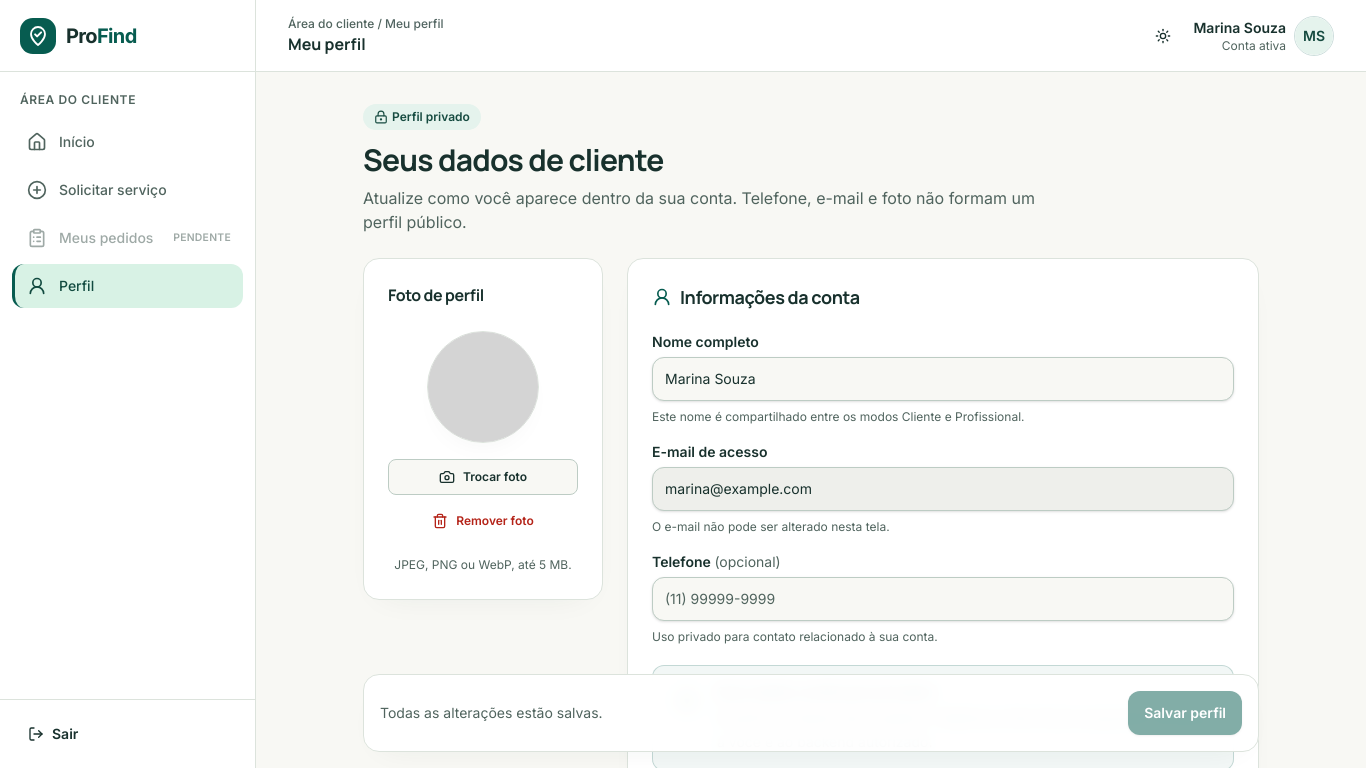
Test: ClientProfilePage › preserva a foto remota quando salvar sua remocao falha
Step 1. Click the button "Remover foto" → point(483, 521), box [388,503,578,539]
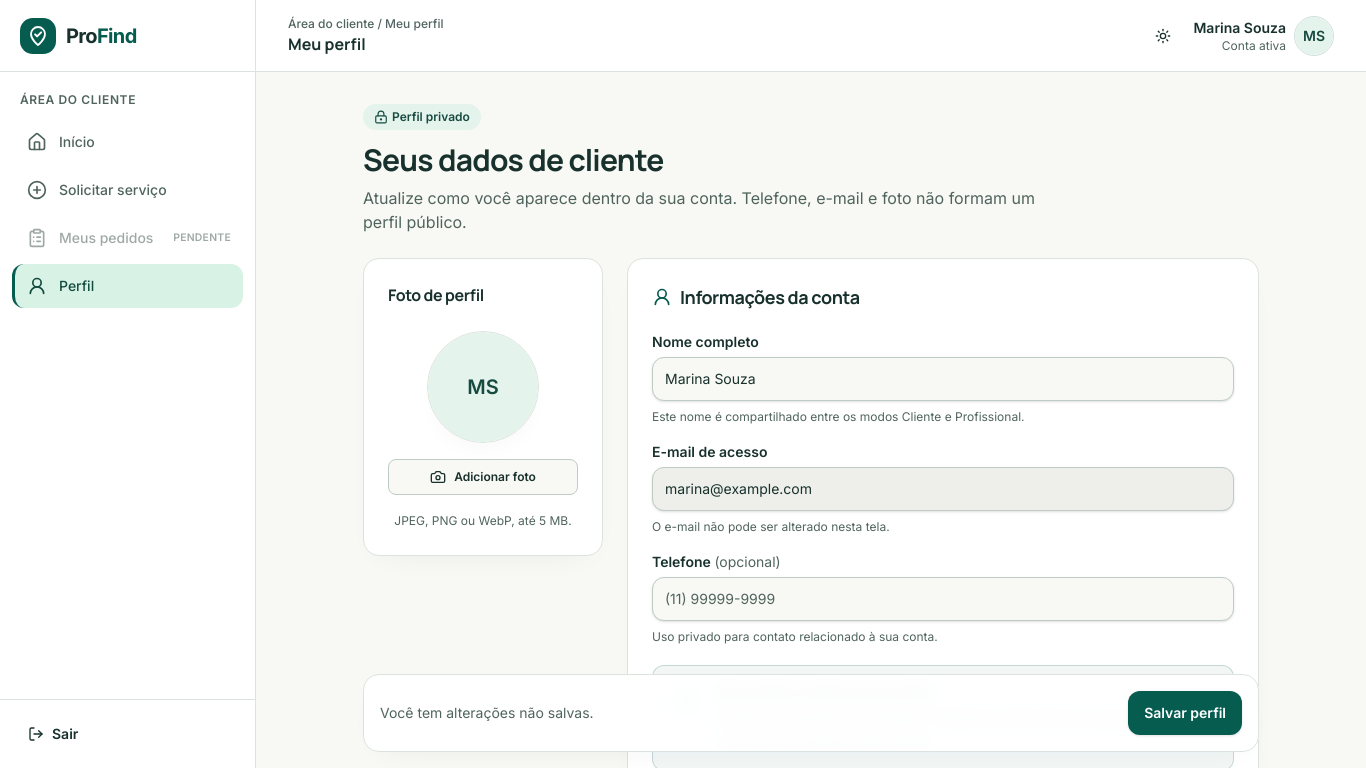
Step 2. Click the button "Salvar perfil" → point(1185, 713), box [1128,691,1242,735]
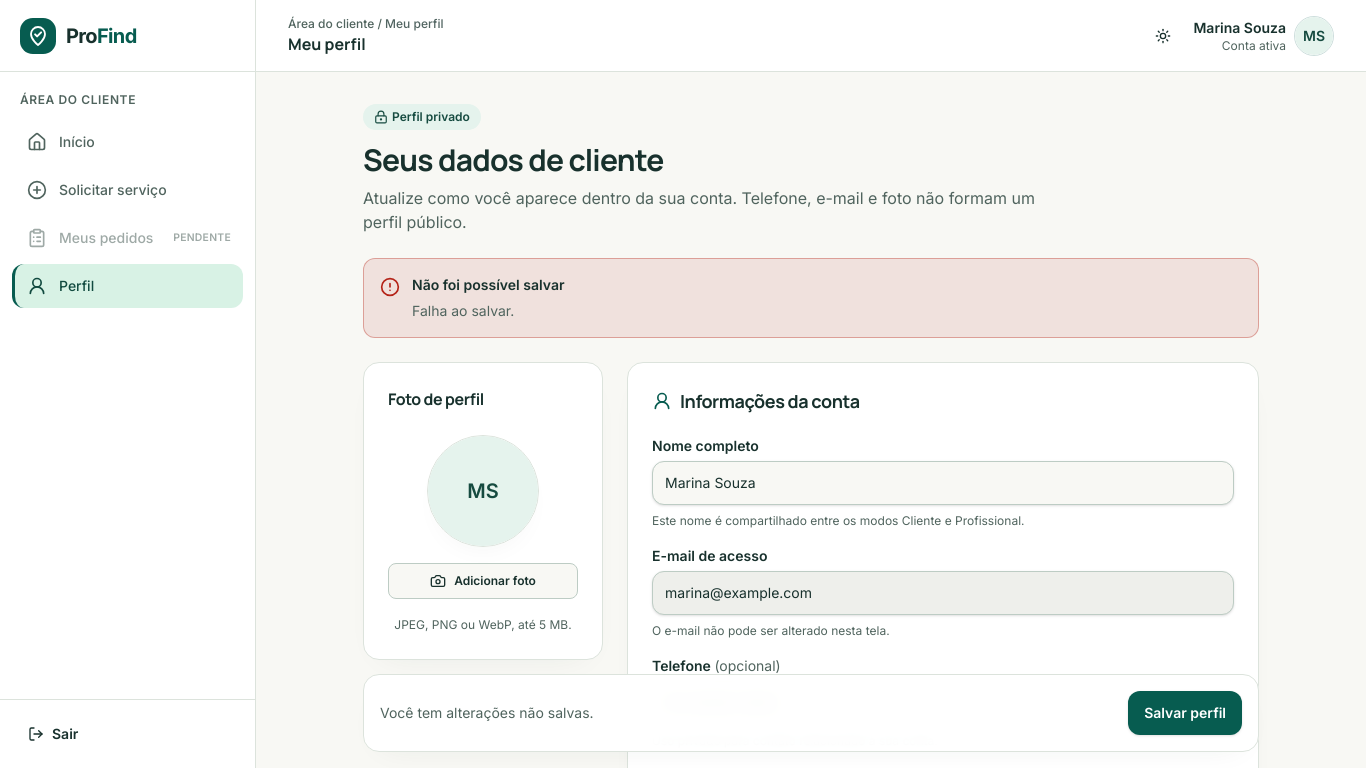
Check: the text "Falha ao salvar." is shown, box [412,302,514,319]
